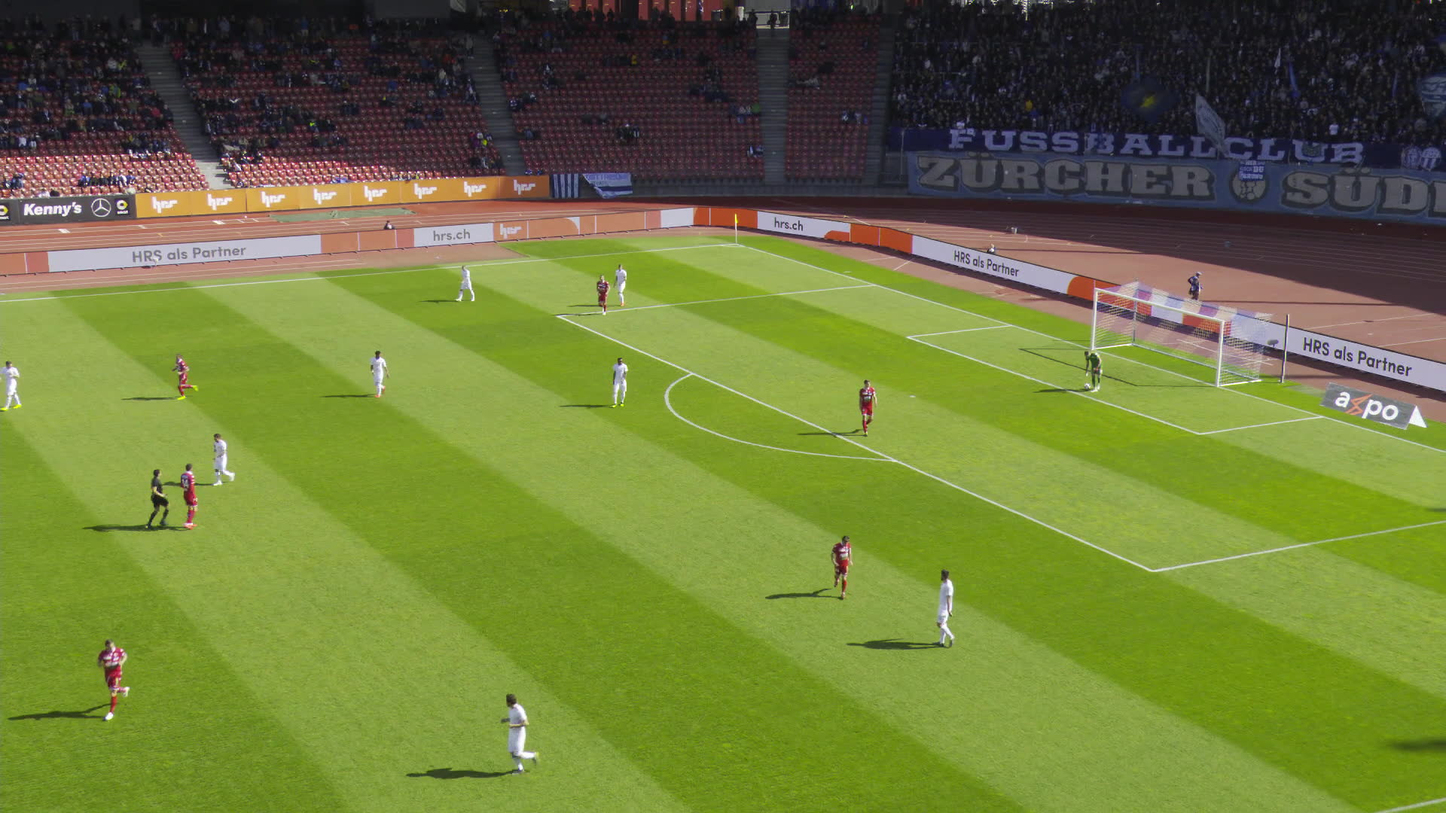ball: (1084, 382, 1091, 388)
player: (505, 692, 546, 775), (99, 636, 131, 717), (932, 568, 956, 647), (830, 533, 853, 598), (212, 434, 237, 486), (174, 352, 201, 399), (182, 461, 200, 528), (0, 359, 22, 410), (859, 379, 876, 436), (370, 349, 388, 397), (1084, 348, 1103, 392), (612, 357, 628, 407), (596, 273, 611, 315), (457, 264, 474, 301), (614, 263, 627, 306)
referee: (148, 466, 175, 528)
